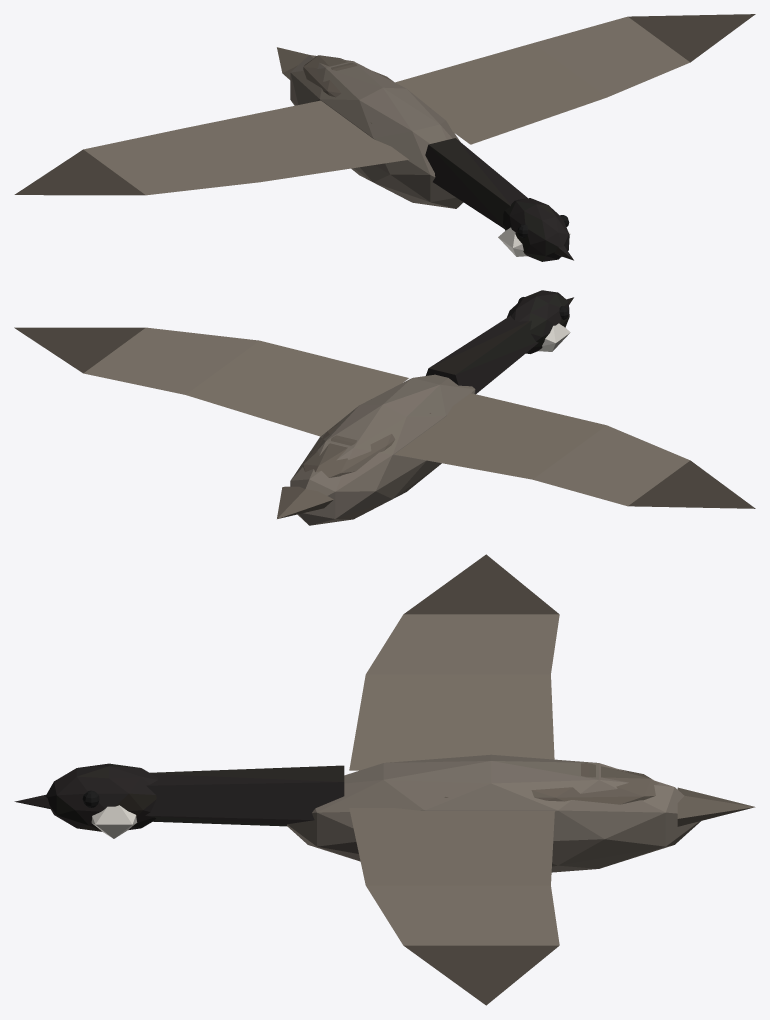
File: oiseau-oie.glb
The picture shows the model from 3 angles, top to bottom: view 1: azimuth 30°, elevation 25°; view 2: azimuth 150°, elevation 25°; view 3: azimuth 270°, elevation 25°; orthographic projection. The views are drawn at different scales.
Size of the model in its own units: 1.6 by 0.1821 by 1.11.
